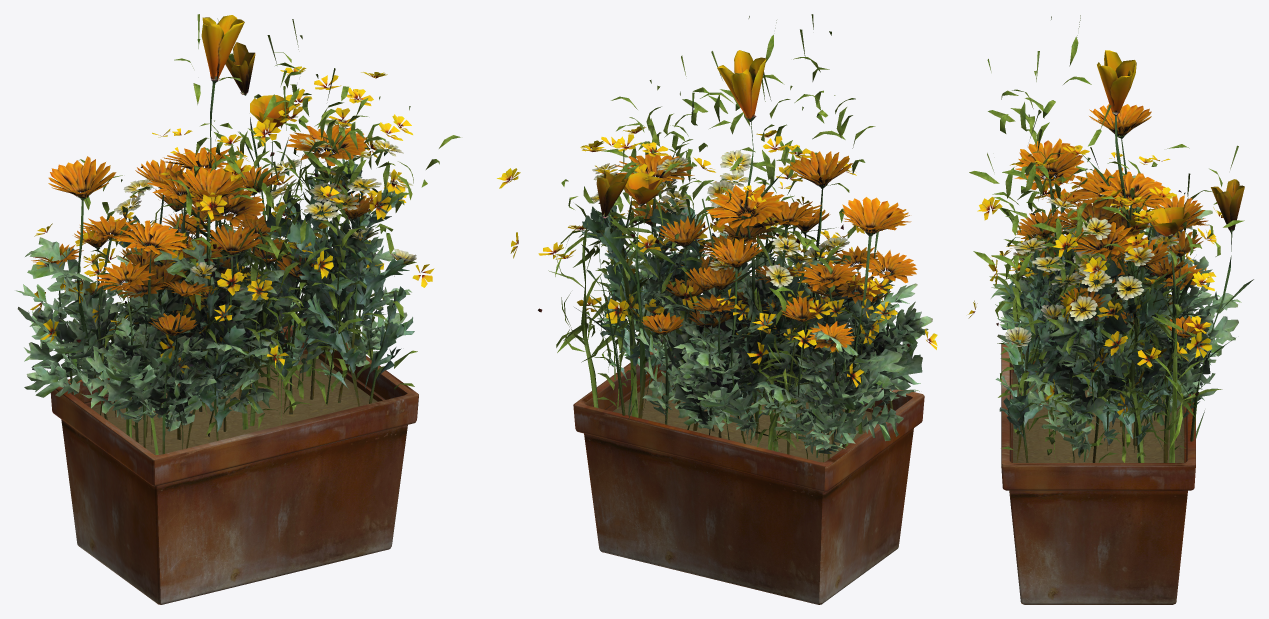
The model's file is flower_pot.glb.
3 renders of one model, left to right at view 1: azimuth 30°, elevation 25°; view 2: azimuth 150°, elevation 25°; view 3: azimuth 270°, elevation 25°, orthographic. The views are drawn at different scales.
Parts seen in each view (by area): view 1: Object_2, Object_3; view 2: Object_2, Object_3; view 3: Object_2, Object_3.
Part boxes in pixels (x1,y1,x2,y2): Object_2: (15,14,460,454); Object_3: (50,325,418,604); Object_2: (497,14,937,461); Object_3: (573,344,924,604); Object_2: (968,15,1253,462); Object_3: (1001,342,1195,604).
Size of the model in its own units: 60.76 by 79.27 by 40.13.
2 materials, 2 textured.
